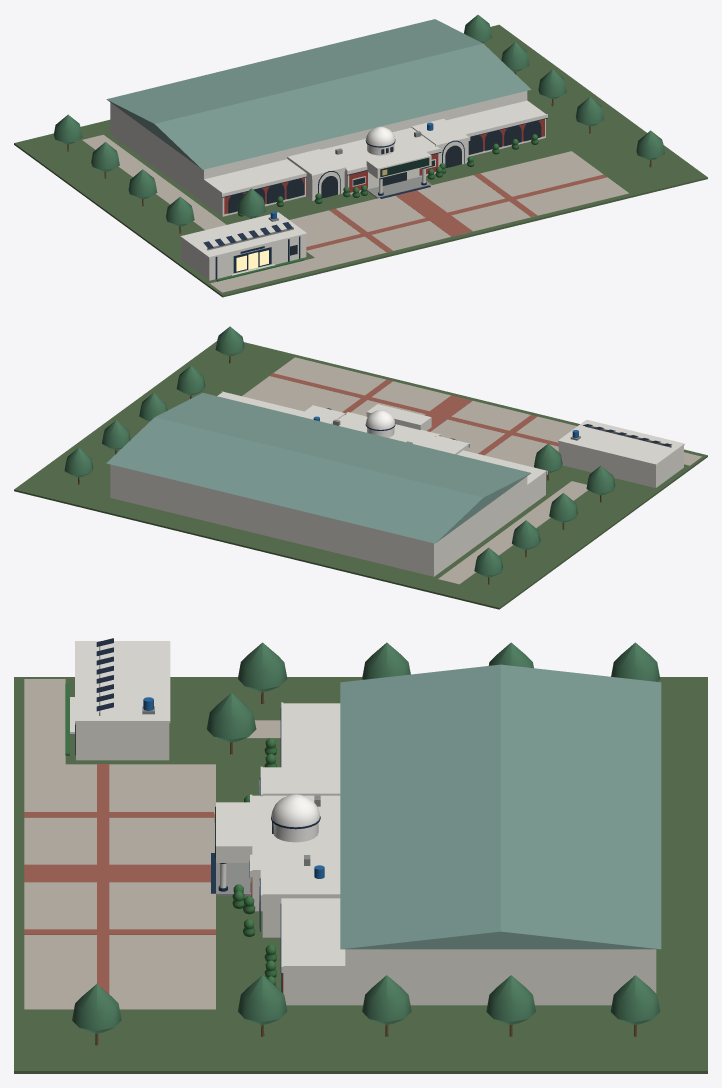
File: campus.glb
3 views of the same model, one above another, from view 1: azimuth 30°, elevation 25°; view 2: azimuth 150°, elevation 25°; view 3: azimuth 270°, elevation 25° (orthographic). The views are drawn at different scales.
Visible parts, largest first — view 1: Main_Building_Roof_Metal, Site_Ground_Grass, Site_Paver_Grey, Main_Building_Render_White, Planting_Tree_Canopy, Admission_Office_Render_White, Site_Paver_Red, Main_Building_Glass_Dark, Main_Building_Trim_Navy, Main_Building_Brick_Red, Planting_Topiary_Green, Main_Building_Plant_Grey (+3 smaller); view 2: Main_Building_Roof_Metal, Site_Ground_Grass, Main_Building_Render_White, Site_Paver_Grey, Planting_Tree_Canopy, Admission_Office_Render_White, Site_Paver_Red, Main_Building_Dome_White; view 3: Main_Building_Roof_Metal, Site_Ground_Grass, Site_Paver_Grey, Main_Building_Render_White, Planting_Tree_Canopy, Admission_Office_Render_White, Site_Paver_Red, Main_Building_Dome_White, Planting_Topiary_Green, Main_Building_Plant_Grey, Main_Building_Trim_Navy, Admission_Office_Solar_Blue.
Part boxes in pixels (x1,y1,x2,y2): Main_Building_Roof_Metal: (106,19,531,169); Site_Ground_Grass: (14,24,707,297); Site_Paver_Grey: (82,134,629,292); Main_Building_Render_White: (110,91,547,216); Planting_Tree_Canopy: (53,15,664,226); Admission_Office_Render_White: (180,212,307,280); Site_Paver_Red: (306,173,606,252); Main_Building_Glass_Dark: (229,121,539,213); Main_Building_Trim_Navy: (222,118,547,213); Main_Building_Brick_Red: (224,119,544,214); Planting_Topiary_Green: (237,134,538,216); Main_Building_Plant_Grey: (335,131,431,198); Main_Building_Roof_Metal: (106,393,531,543); Site_Ground_Grass: (14,341,707,609); Main_Building_Render_White: (110,391,547,576); Site_Paver_Grey: (242,357,701,584); Planting_Tree_Canopy: (64,326,615,577); Admission_Office_Render_White: (558,419,684,487); Site_Paver_Red: (270,373,558,455); Main_Building_Dome_White: (366,410,394,437); Main_Building_Roof_Metal: (340,664,661,949); Site_Ground_Grass: (14,677,707,1073); Site_Paver_Grey: (24,679,280,1009); Main_Building_Render_White: (216,702,656,1005); Planting_Tree_Canopy: (72,642,660,1033); Admission_Office_Render_White: (70,641,170,760); Site_Paver_Red: (24,764,215,993); Main_Building_Dome_White: (271,794,319,842); Planting_Topiary_Green: (232,738,276,986); Main_Building_Plant_Grey: (216,795,320,895); Main_Building_Trim_Navy: (211,708,320,992); Admission_Office_Solar_Blue: (96,638,113,711).
Bounding box in the file's own units: 90 × 8.63 × 67.
